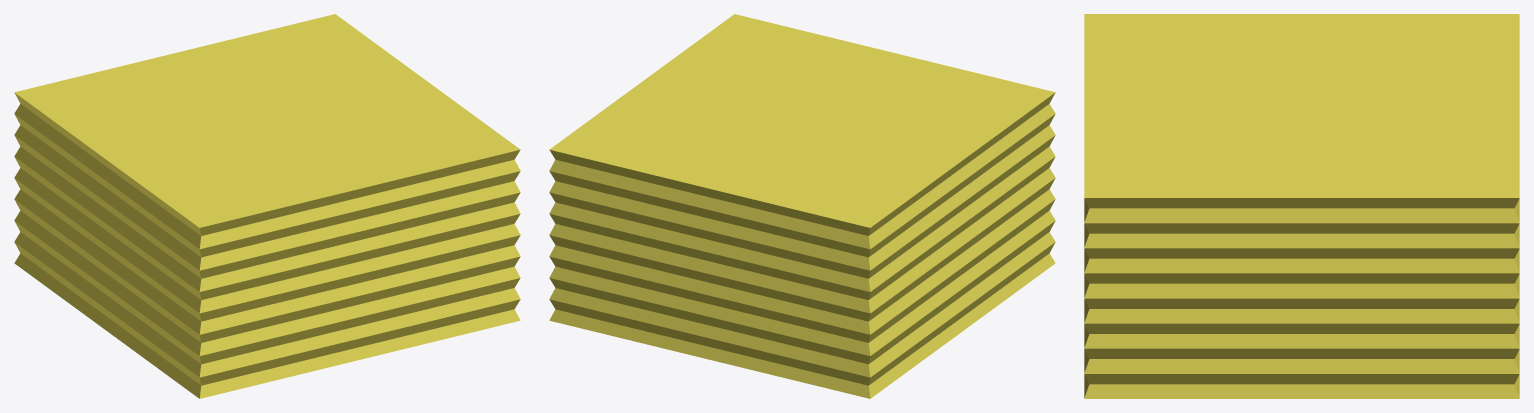
File: Post-its.fbx
The picture shows the model from 3 angles, left to right: view 1: azimuth 30°, elevation 25°; view 2: azimuth 150°, elevation 25°; view 3: azimuth 270°, elevation 25°; orthographic projection. The views are drawn at different scales.
Parts seen in each view (by area): view 1: Post-its; view 2: Post-its; view 3: Post-its.
Boxes of the visible parts, <box> form: Post-its: <box>14,14,520,398</box>; Post-its: <box>549,14,1055,398</box>; Post-its: <box>1084,14,1519,398</box>.
Size of the model in its own units: 200 by 102 by 200.
